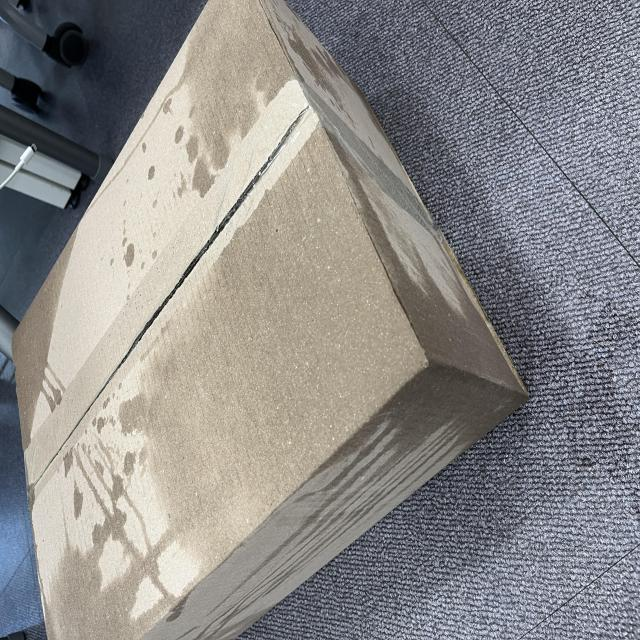wet: (1, 18, 474, 640)
